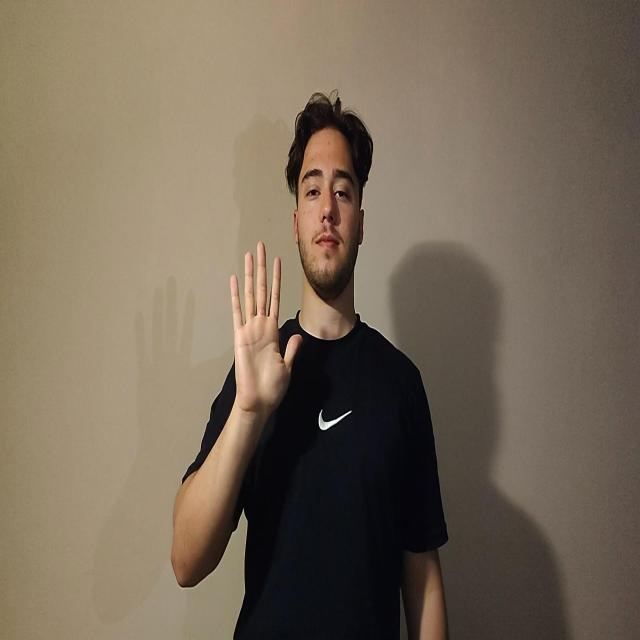hello: (229, 240, 303, 417)
